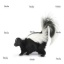skunk: (14, 17, 56, 56)
